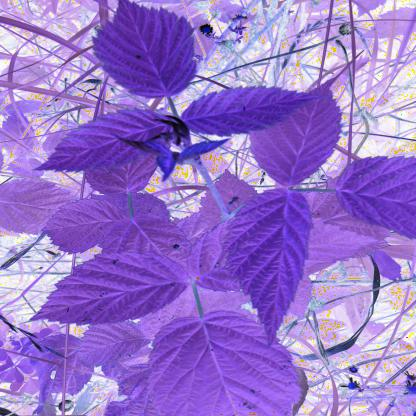raspberry leaf: (17, 244, 198, 335), (214, 184, 312, 345), (146, 315, 293, 416), (242, 74, 349, 184), (30, 106, 186, 177), (95, 0, 198, 98), (177, 76, 321, 137), (335, 155, 416, 240)
